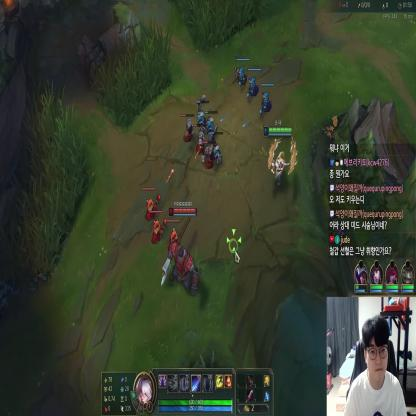streamer: (343, 316, 407, 416)
